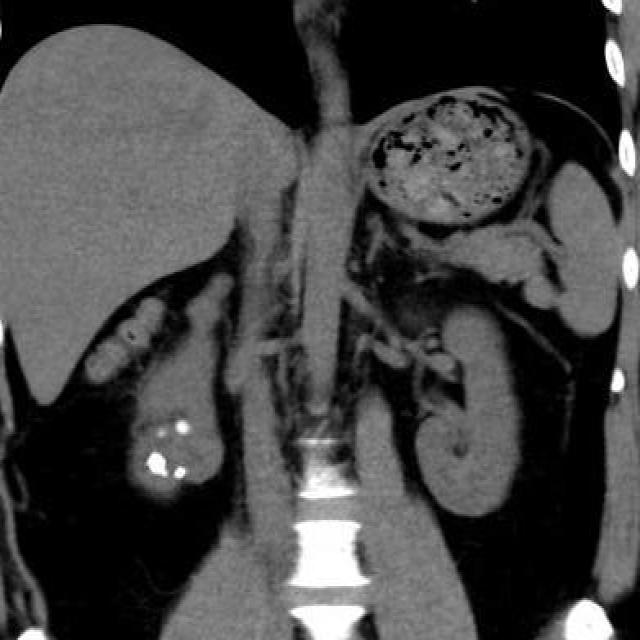Tas_Var: (146, 450, 170, 480), (174, 465, 188, 483), (154, 426, 167, 442), (176, 419, 189, 435)
